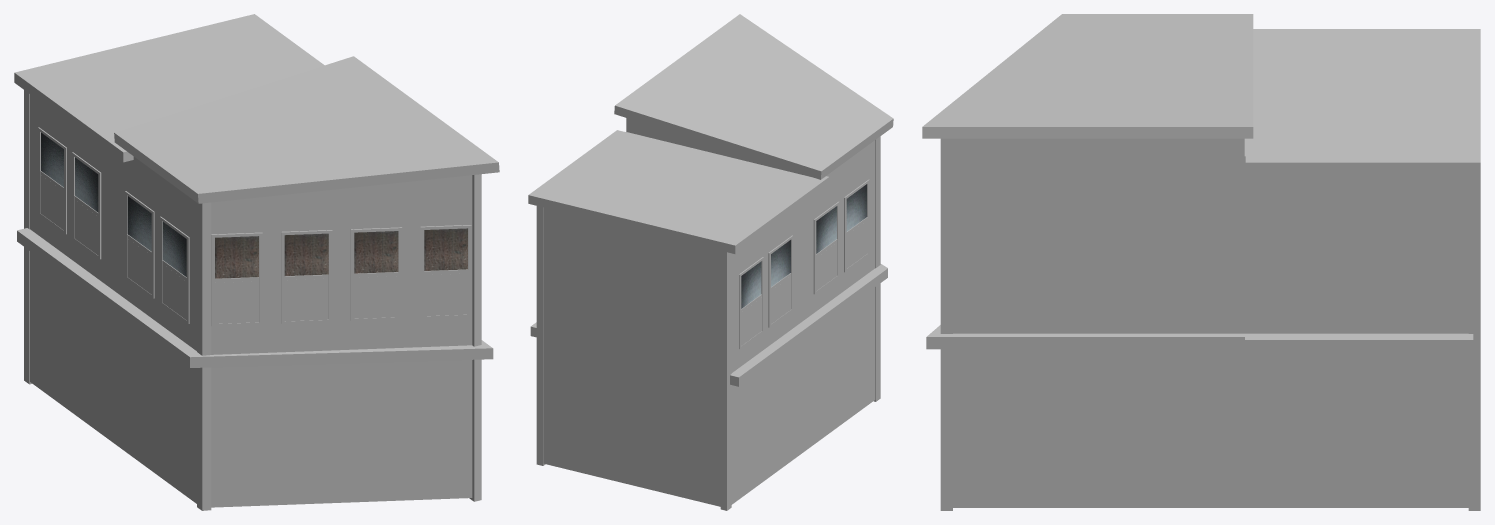
The model's file is apart_poor_07a.fbx.
3 renders of one model, left to right at view 1: azimuth 30°, elevation 25°; view 2: azimuth 150°, elevation 25°; view 3: azimuth 270°, elevation 25°, orthographic. The views are drawn at different scales.
Parts seen in each view (by area): view 1: apart_poor_07a; view 2: apart_poor_07a; view 3: apart_poor_07a.
Part boxes in pixels (x1,y1,x2,y2): apart_poor_07a: (14,14,499,510); apart_poor_07a: (528,14,893,510); apart_poor_07a: (922,14,1480,510).
Size of the model in its own units: 4.69 by 6.32 by 8.23.
